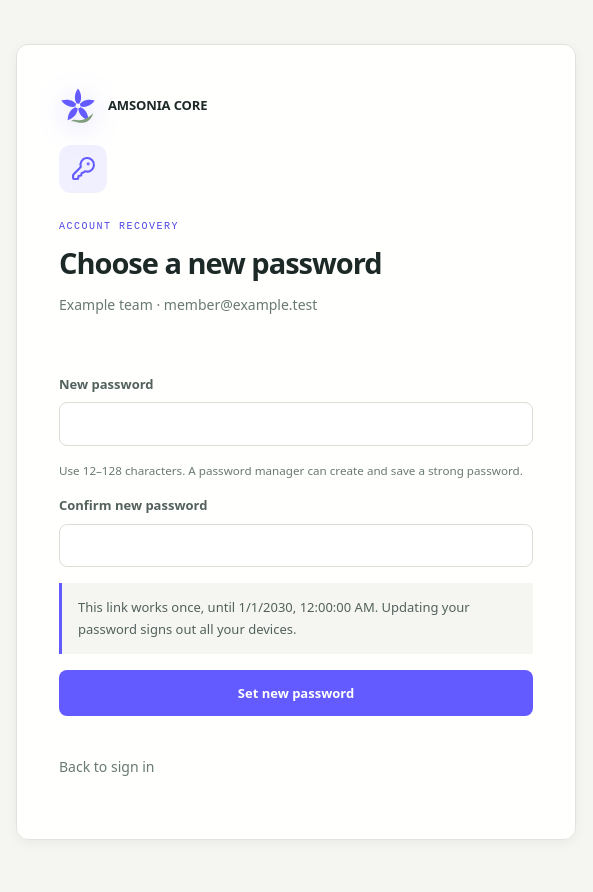
Scenario: consumes a recovery link without logging out another browser account
Check: the text "Example team · member@example.test" is shown, box [59,295,317,314]
Type "new-test-password" into the password field labelled "New password".
click(296, 424); type("new-test-password")  # box [59,402,533,446]
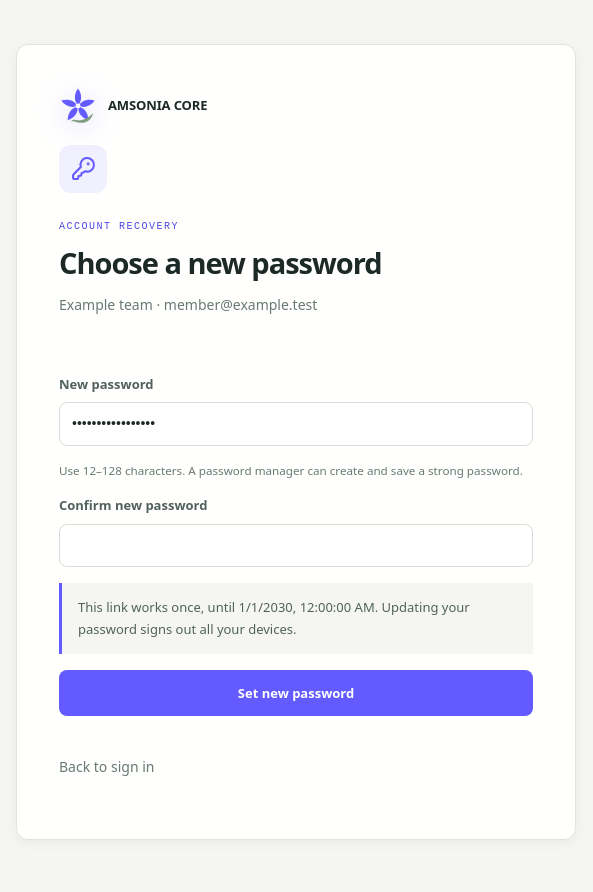
Type "different-password" into the password field labelled "Confirm new password".
click(296, 546); type("different-password")  # box [59,524,533,568]
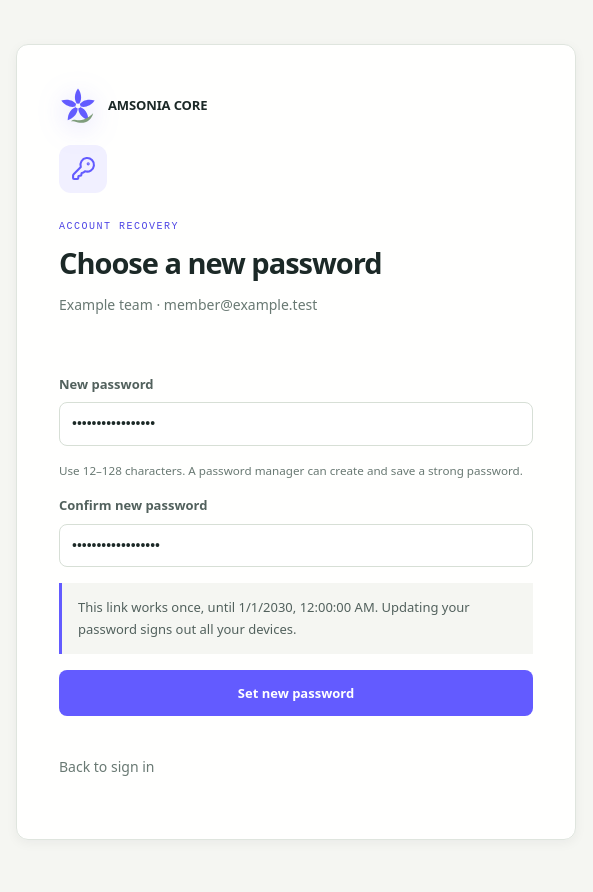
Click the button "Set new password".
click(296, 693)  # box [59,670,533,716]
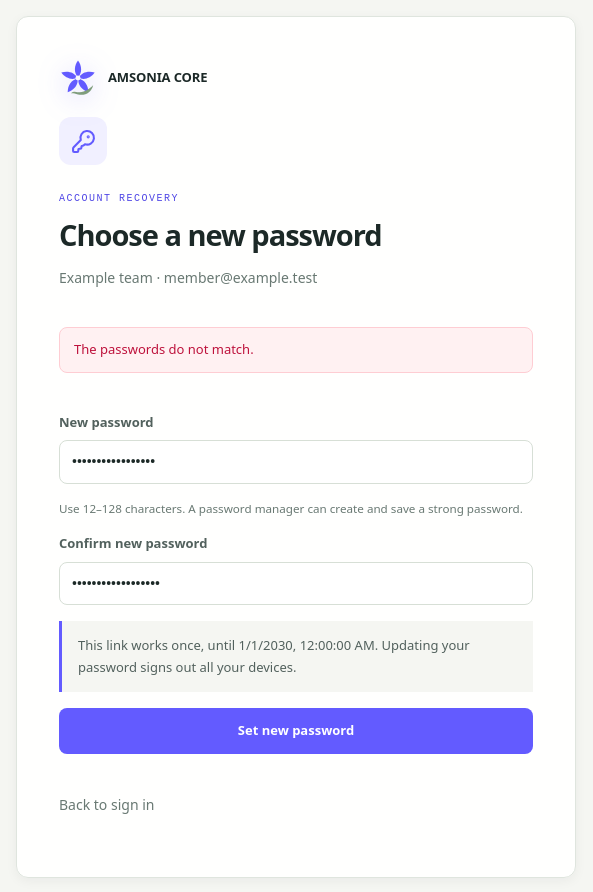
Check: the text "The passwords do not match." is shown, box [59,327,533,373]
Type "new-test-password" into the password field labelled "Confirm new password".
click(296, 584); type("new-test-password")  # box [59,562,533,605]
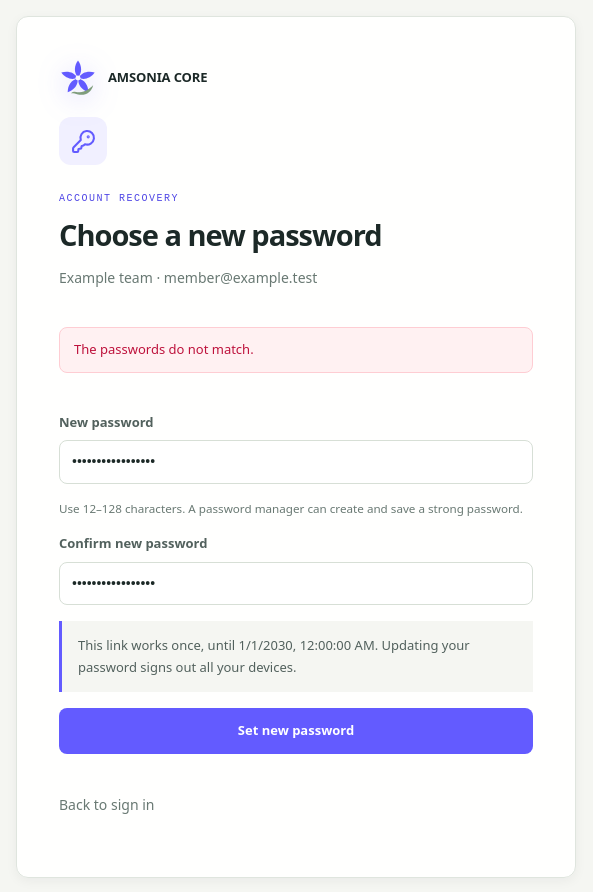
Click the button "Set new password".
click(296, 731)  # box [59,708,533,754]
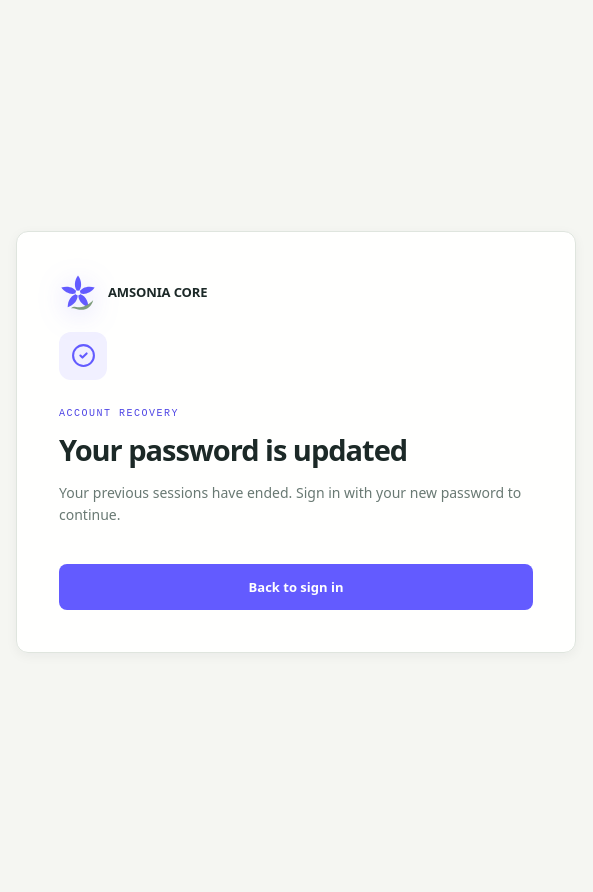
Check: the heading "Your password is updated" is shown, box [59,430,407,469]
